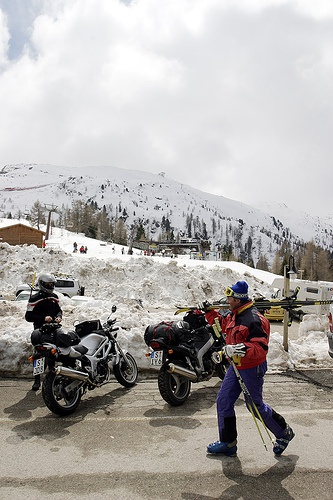non-vehicle: (29, 304, 139, 416), (141, 309, 227, 405)
